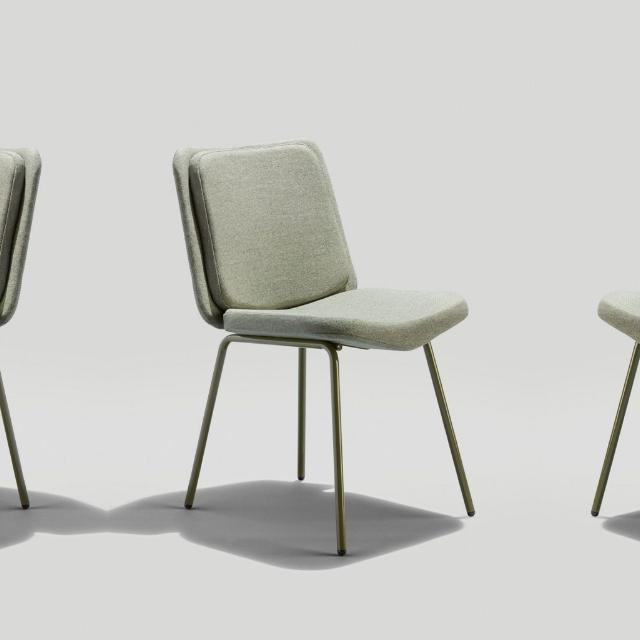obstacle: (163, 121, 495, 587), (569, 121, 640, 587), (0, 121, 49, 587)
